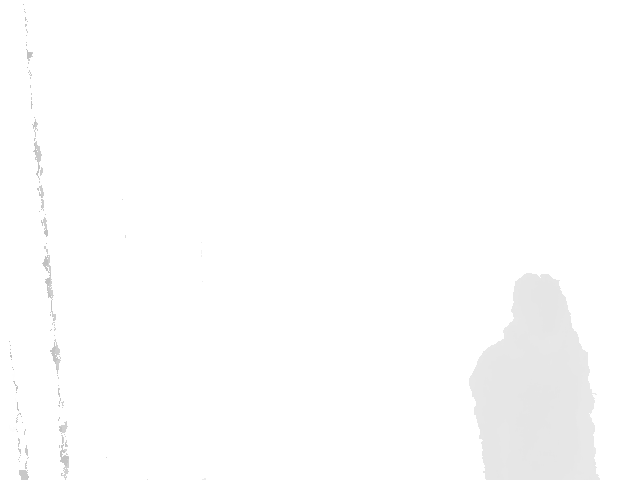head: (504, 274, 577, 350)
person: (468, 273, 602, 480)
